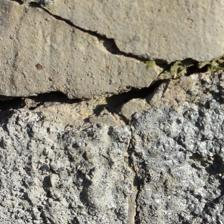Crack: (66, 96, 159, 135), (185, 139, 224, 209)
